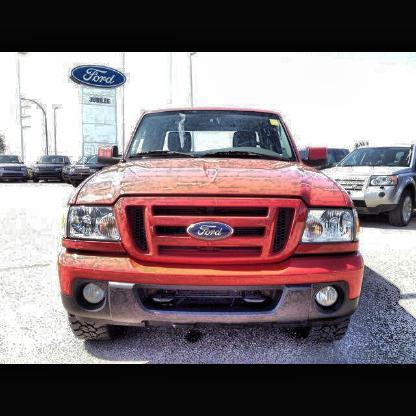Ford Ranger SuperCab 2011: (57, 105, 369, 350)
